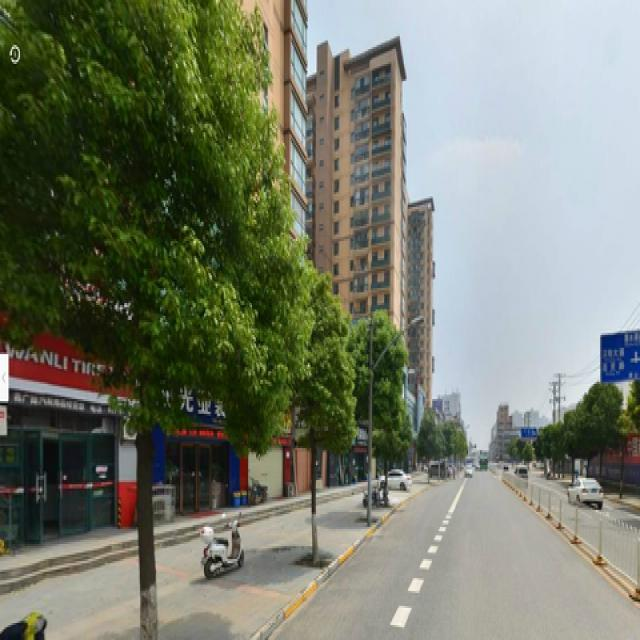cinn: (51, 24, 264, 618), (290, 277, 346, 555)
